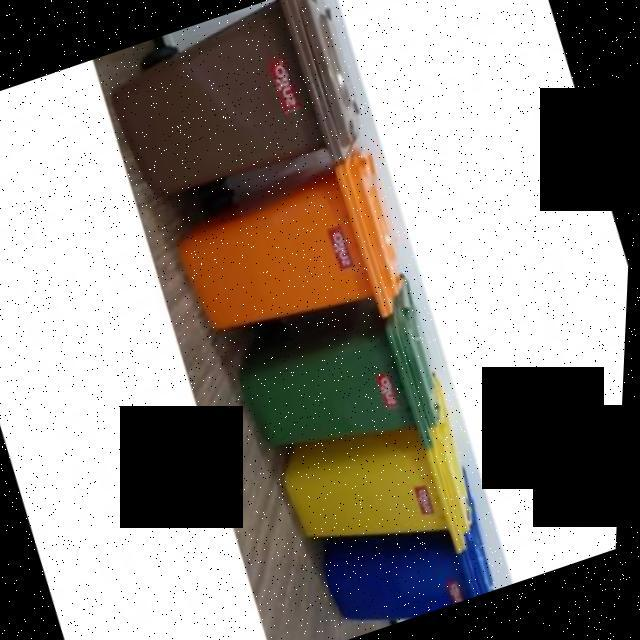bin: (92, 0, 378, 215), (154, 141, 421, 362)
